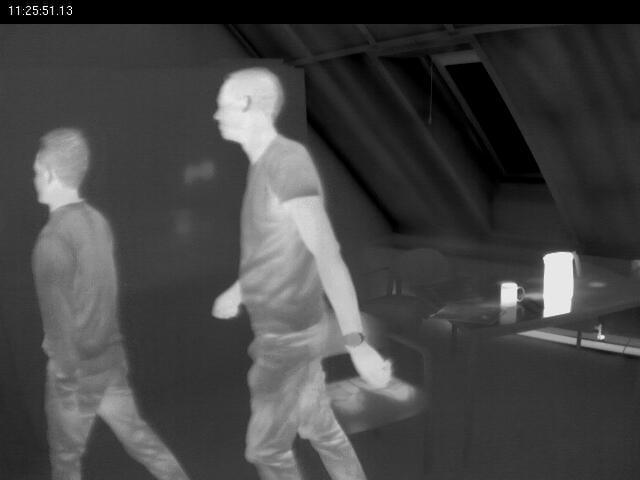person: (198, 40, 393, 479), (28, 125, 156, 476)
